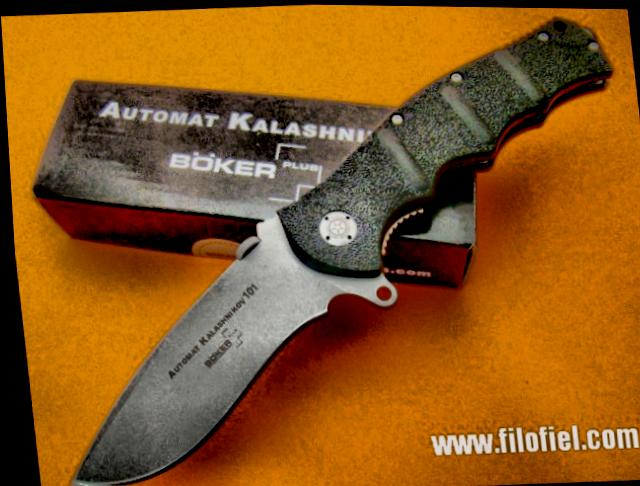knife: (33, 212, 359, 486)
